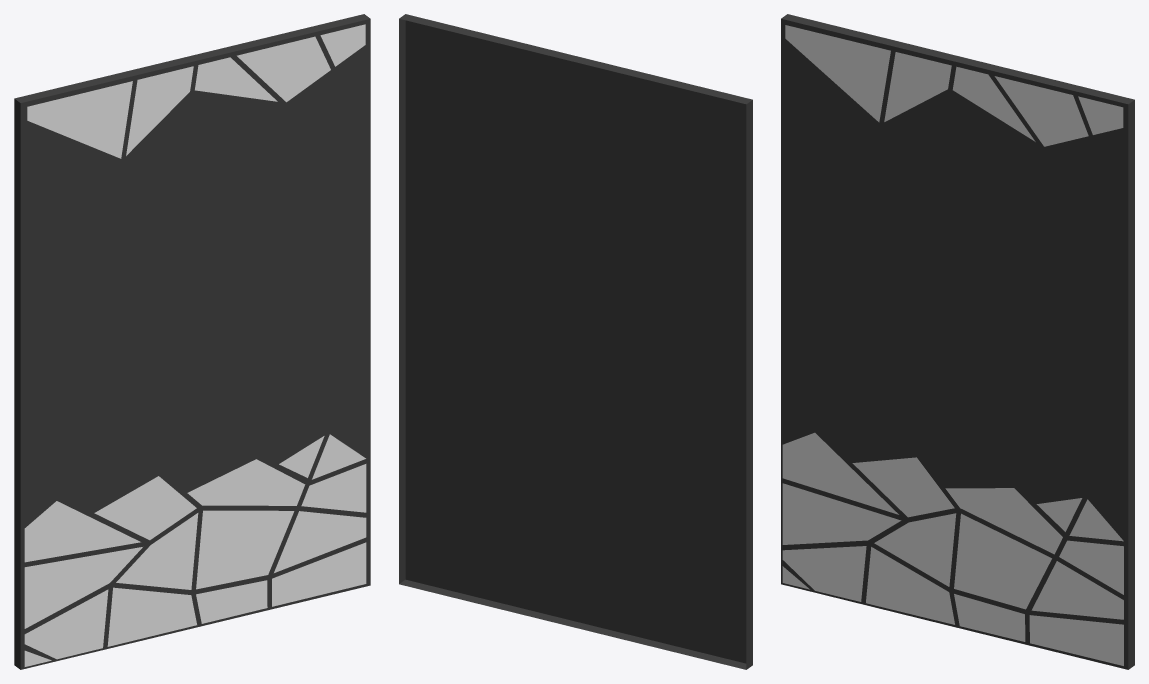
The model's file is picture_006.glb.
The picture shows the model from 3 angles, left to right: view 1: azimuth 30°, elevation 25°; view 2: azimuth 150°, elevation 25°; view 3: azimuth 330°, elevation 25°; orthographic projection.
Parts seen in each view (by area): view 1: picture_006; view 2: picture_006; view 3: picture_006.
Boxes of the visible parts, x1,y1,x2,y2 form: picture_006: (14, 14, 370, 669); picture_006: (399, 14, 752, 669); picture_006: (781, 14, 1134, 669).
Bounding box in the file's own units: 1 × 1.55 × 0.0372.
1 material, 1 textured.
